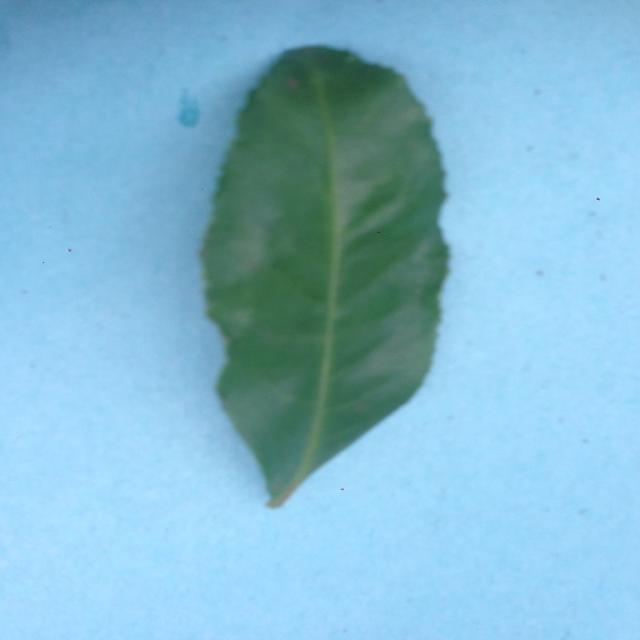Healthy: (173, 0, 525, 529)
